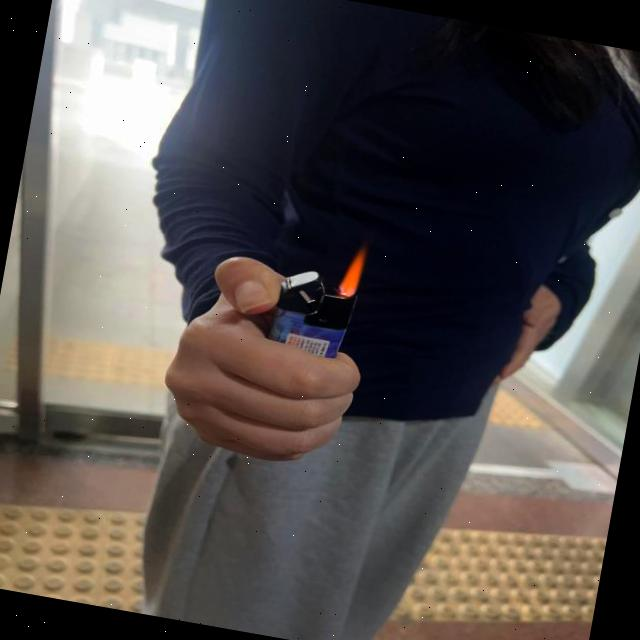fire: (336, 240, 368, 300)
